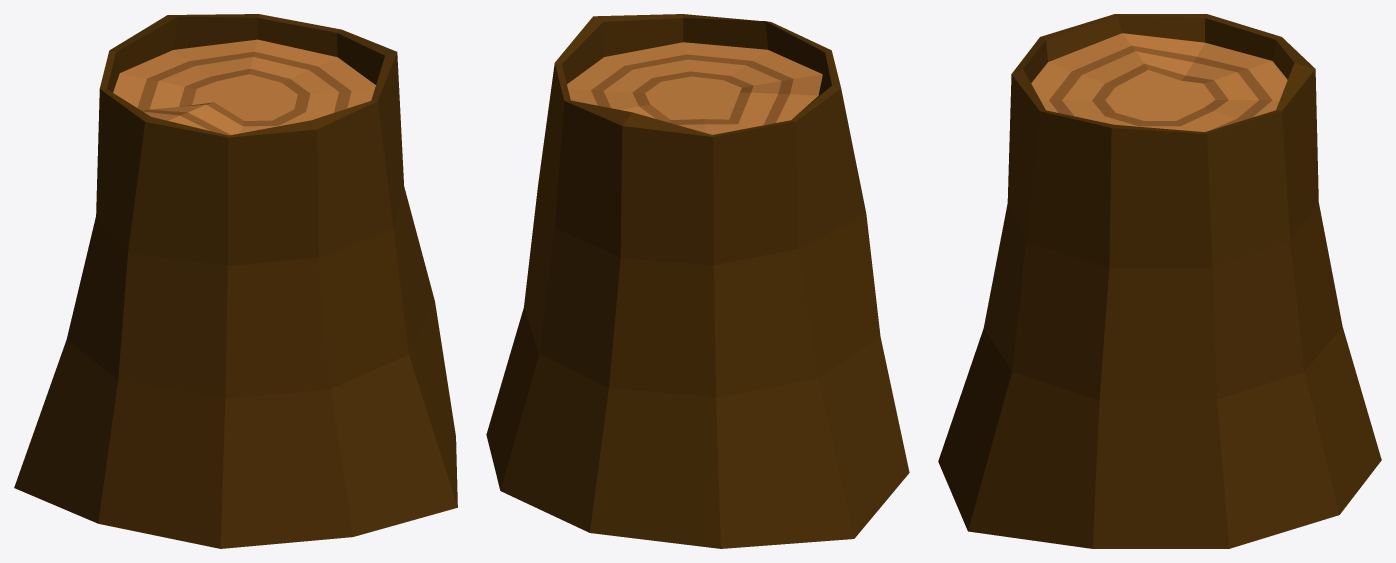
The picture shows the model from 3 angles, left to right: view 1: azimuth 30°, elevation 25°; view 2: azimuth 150°, elevation 25°; view 3: azimuth 270°, elevation 25°; orthographic projection. The views are drawn at different scales.
Parts seen in each view (by area): view 1: Цилиндр.013; view 2: Цилиндр.013; view 3: Цилиндр.013.
Part boxes in pixels (x1,y1,x2,y2): Цилиндр.013: (14, 14, 457, 548); Цилиндр.013: (486, 14, 909, 548); Цилиндр.013: (938, 14, 1381, 548).
Size of the model in its own units: 2932 by 3031 by 2977.
